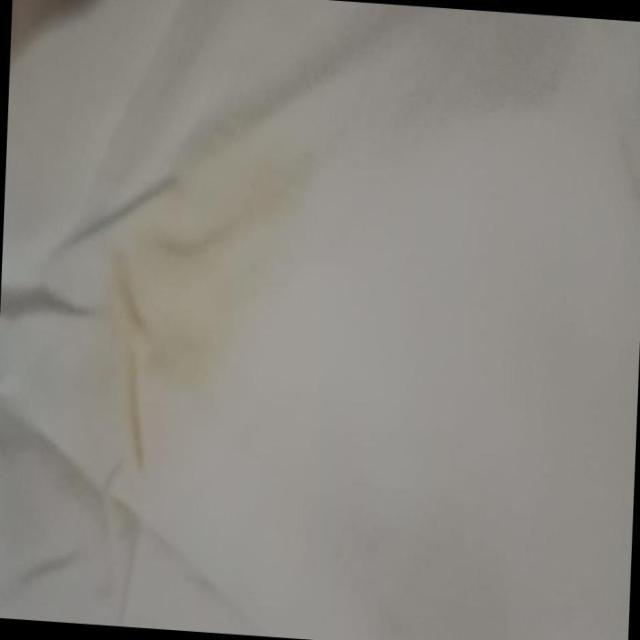stain: (101, 124, 280, 435)
